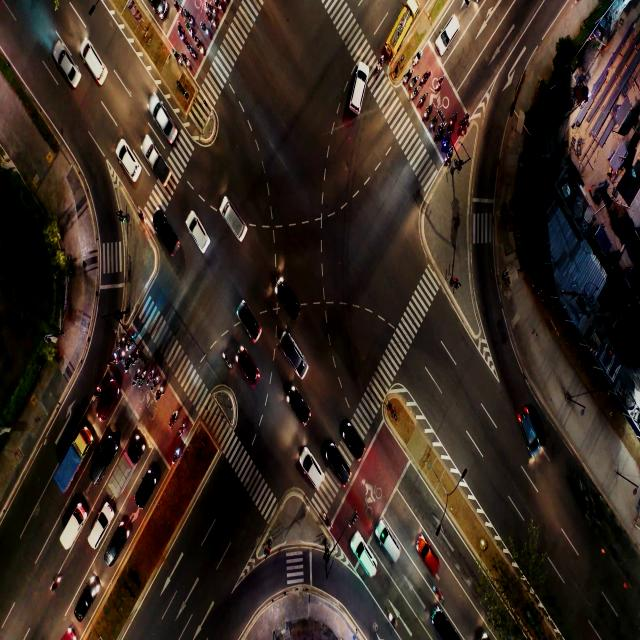bus: (392, 9, 408, 44)
car: (518, 407, 544, 462), (352, 529, 375, 577), (76, 581, 102, 623), (346, 65, 370, 109), (82, 38, 102, 87), (90, 507, 112, 546), (222, 205, 246, 238), (382, 525, 400, 568), (105, 527, 127, 562), (158, 101, 176, 143), (235, 304, 256, 338), (291, 391, 307, 435), (288, 337, 307, 374), (58, 52, 78, 87), (416, 538, 436, 572), (136, 476, 158, 506), (440, 12, 456, 53), (117, 144, 135, 180), (160, 225, 179, 258), (304, 456, 322, 490), (344, 431, 364, 460), (328, 452, 347, 482), (96, 444, 113, 476), (276, 284, 296, 310), (433, 610, 450, 638), (194, 224, 208, 254), (238, 357, 257, 379), (100, 393, 116, 419)
motorcycle: (386, 606, 398, 626), (432, 586, 445, 604), (201, 23, 211, 39), (172, 449, 183, 463), (222, 350, 230, 369), (131, 372, 141, 387), (324, 513, 332, 531), (139, 206, 146, 226), (92, 386, 100, 403), (436, 124, 444, 139), (157, 388, 165, 403), (178, 27, 185, 44), (171, 49, 180, 62), (170, 412, 178, 426), (377, 52, 382, 74), (184, 10, 193, 22), (431, 117, 439, 130), (187, 45, 195, 58), (110, 350, 116, 367), (460, 120, 467, 134), (119, 351, 125, 367), (174, 0, 182, 12), (424, 105, 431, 118), (197, 41, 204, 54), (179, 422, 187, 433), (437, 78, 443, 92), (133, 352, 139, 366), (209, 16, 216, 28), (443, 139, 451, 149), (411, 88, 418, 99), (127, 340, 134, 351), (207, 3, 214, 14), (216, 1, 223, 12), (419, 96, 425, 108), (413, 75, 419, 87), (415, 54, 421, 66), (118, 337, 124, 349), (186, 26, 192, 38), (126, 360, 131, 374), (446, 151, 452, 162), (449, 114, 454, 127), (153, 378, 158, 391), (423, 74, 428, 86), (407, 70, 413, 79), (184, 58, 190, 67), (139, 375, 144, 385), (148, 372, 151, 382)
truck: (57, 439, 81, 482), (146, 150, 165, 180), (119, 452, 135, 484), (63, 512, 80, 542)
